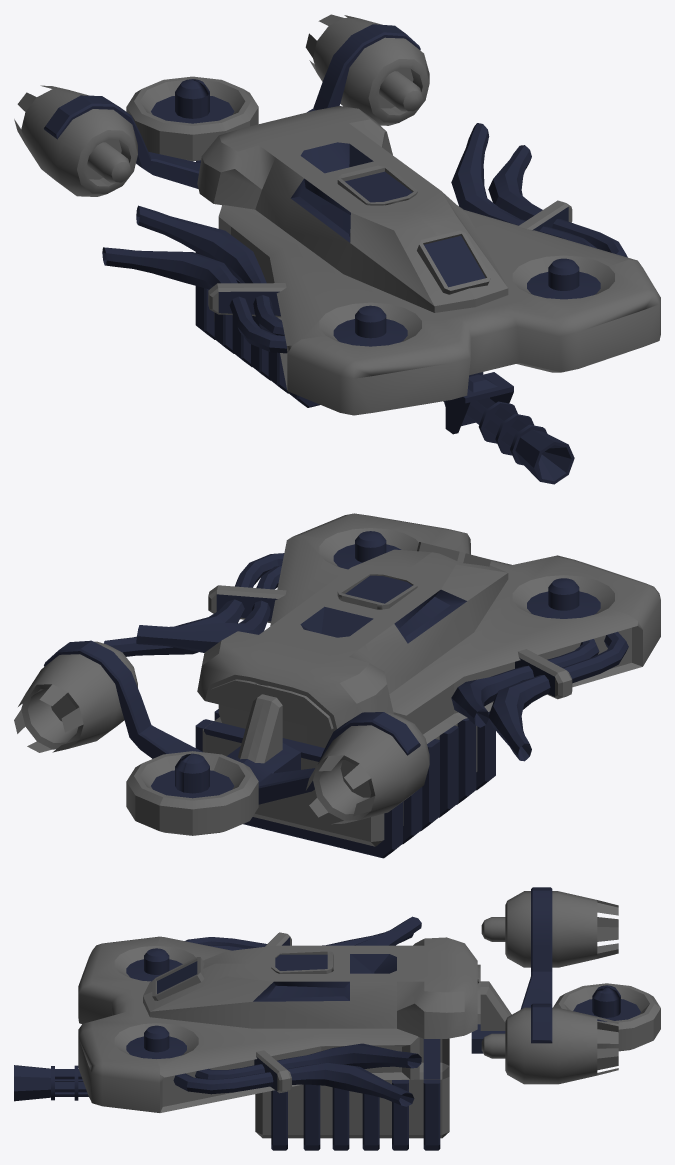
File: ship01.FBX
3 views of the same model, one above another, from view 1: azimuth 30°, elevation 25°; view 2: azimuth 150°, elevation 25°; view 3: azimuth 270°, elevation 25° (orthographic). The views are drawn at different scales.
Parts seen in each view (by area): view 1: ship_part1, gatling; view 2: ship_part1; view 3: ship_part1, gatling.
Boxes of the visible parts, bbox=[...] form: ship_part1: bbox=[14, 14, 660, 415]; gatling: bbox=[443, 372, 574, 484]; ship_part1: bbox=[14, 513, 660, 858]; ship_part1: bbox=[78, 887, 660, 1150]; gatling: bbox=[14, 1065, 88, 1101].
Bounding box in the file's own units: 133 × 60.41 × 213.
